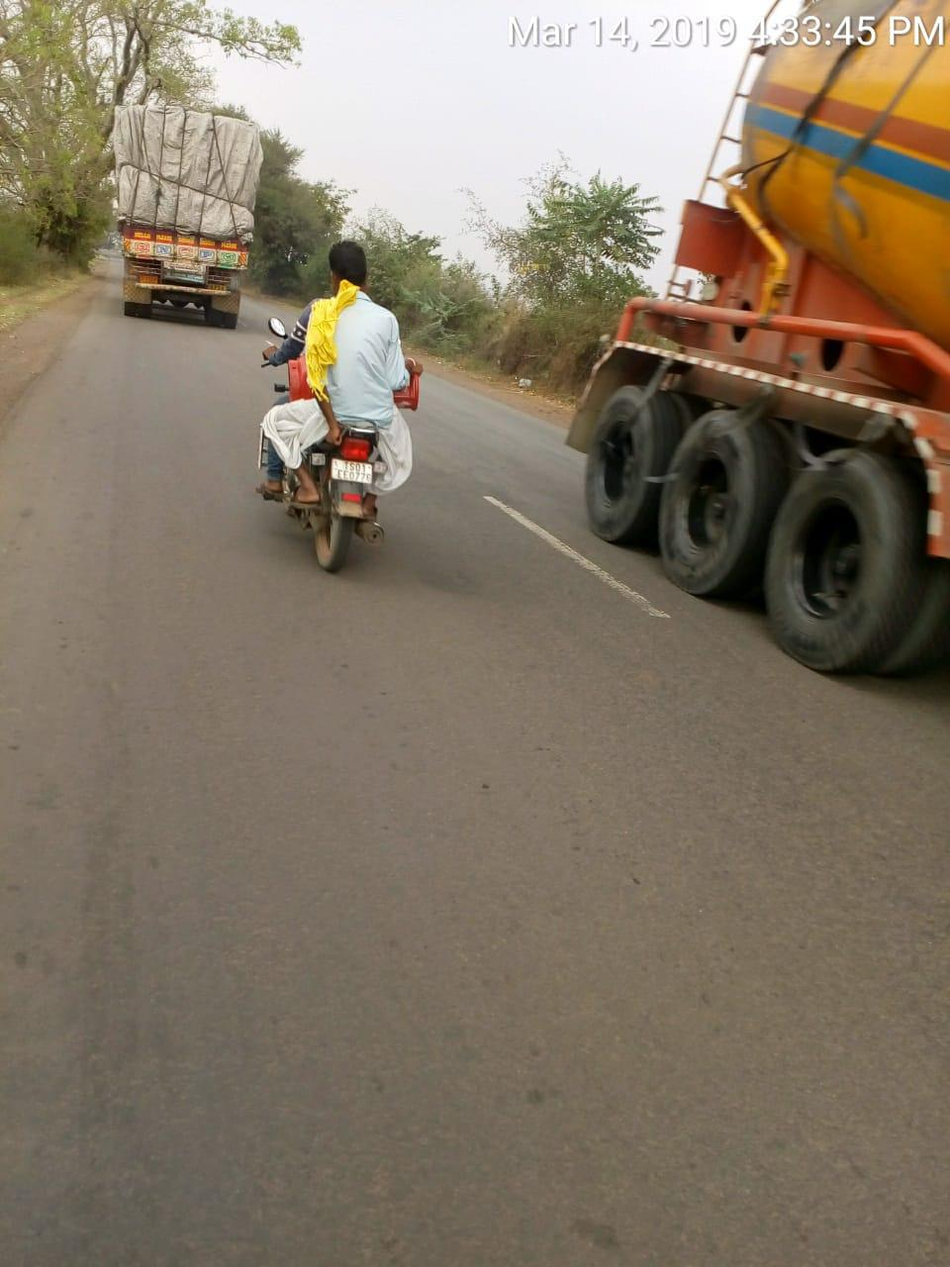plate: (327, 456, 377, 489)
